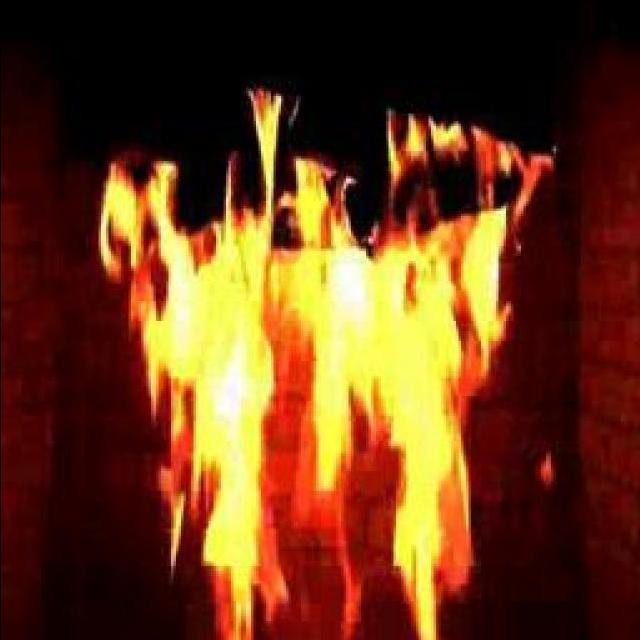Fire: (112, 156, 490, 581)
